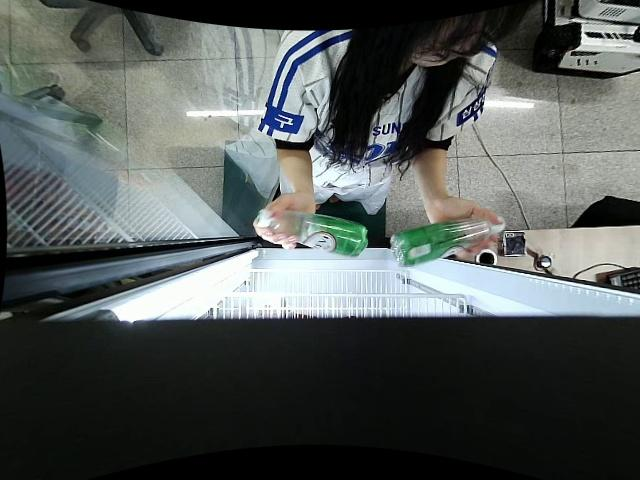00_hand: (427, 197, 501, 259), (251, 196, 316, 251)
18_trevi: (255, 208, 367, 261), (391, 215, 502, 267)
